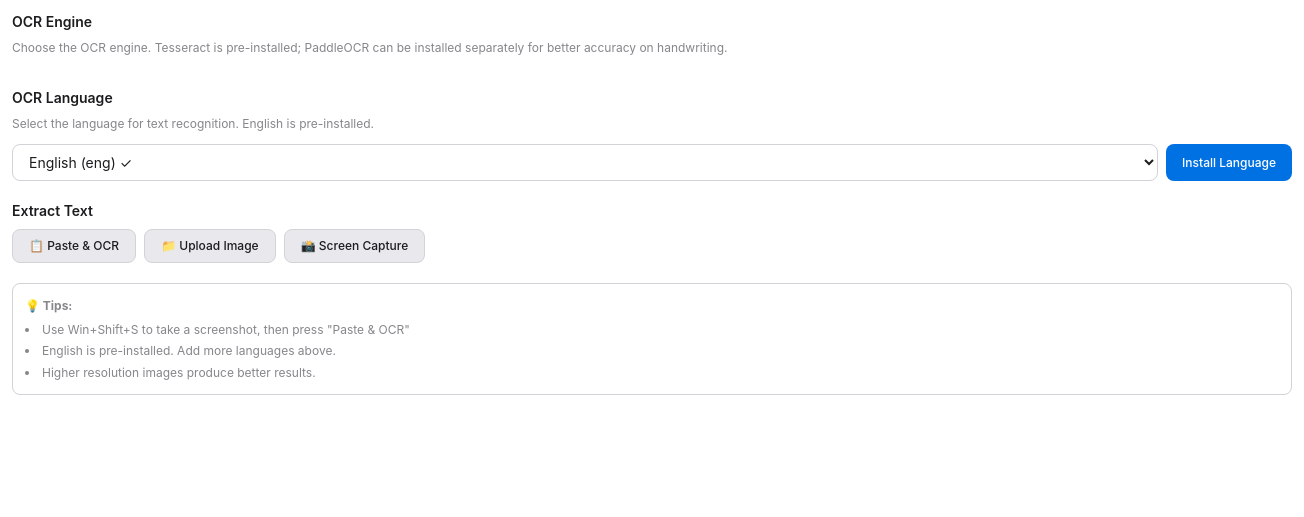
Test: OCRConfig › shows browser-mode message when Screen Capture clicked outside Tauri
The width and height of the screenshot is (1304, 517).
Click the button "📸 Screen Capture" at (354, 246), box top-left (284, 229), bottom-right (425, 263)
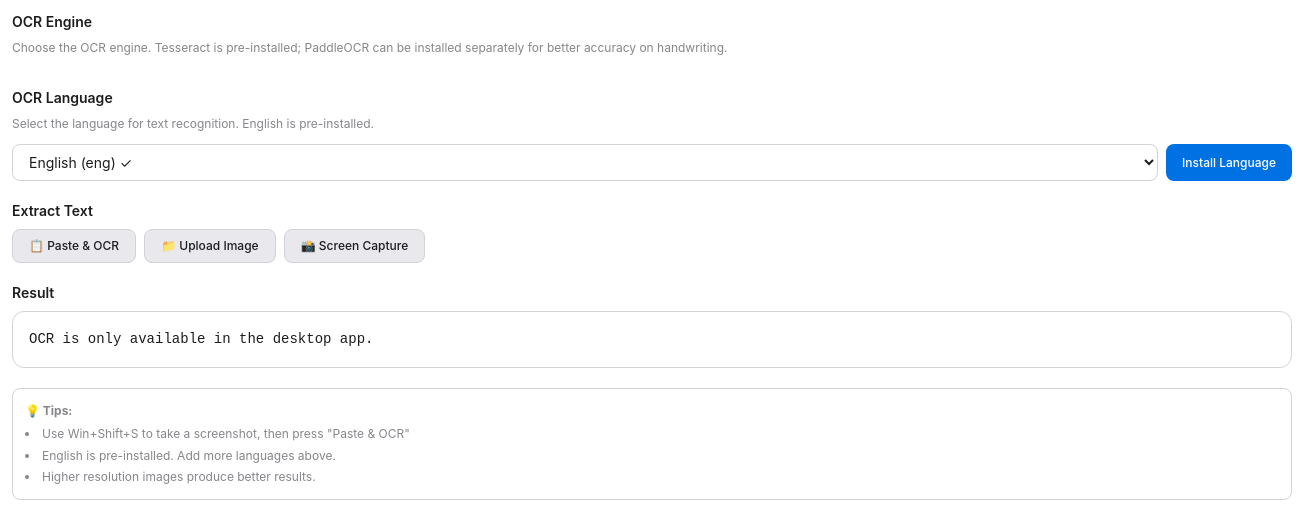
Check: the text "OCR is only available in the desktop app." is shown, box top-left (12, 311), bottom-right (1292, 368)
